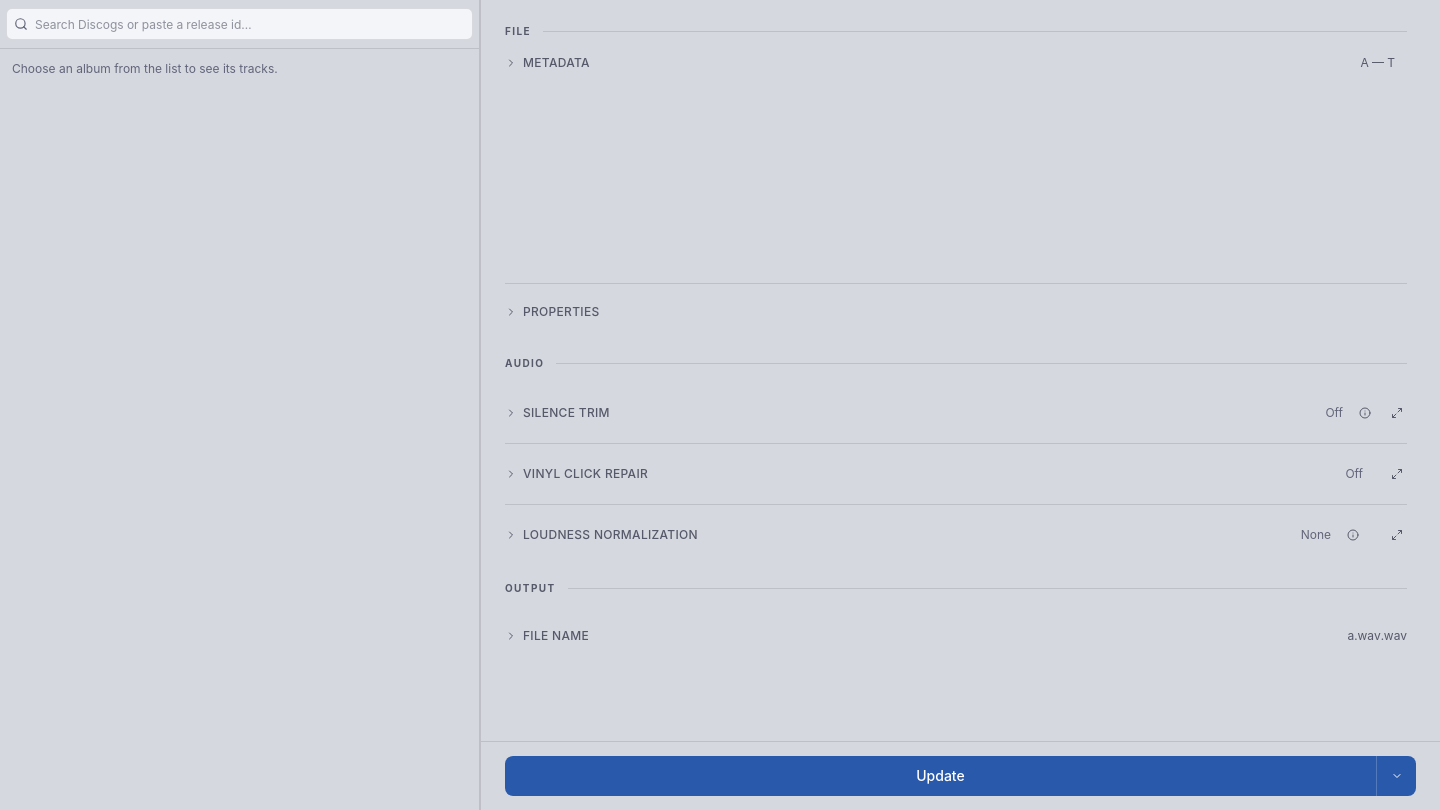
Test: Editor export control › hides the metadata header actions while the form is folded
Click the button "Metadata A — T".
click(556, 62)  # box [505,49,1395,77]
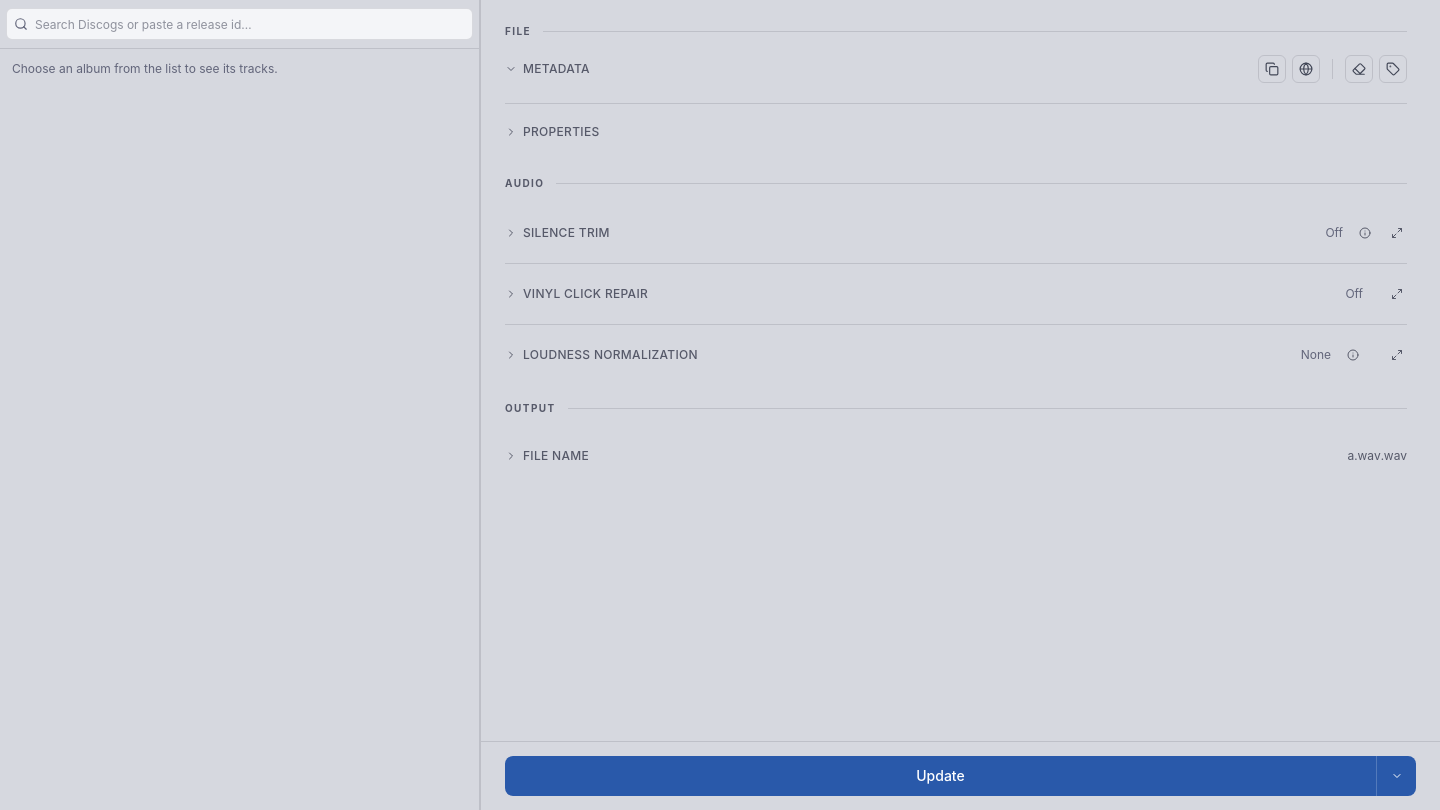
Expected: the button with test id "clear-meta-btn" is shown, [1345,55,1373,83]
Expected: the button with test id "copy-filename-btn" is shown, [1258,55,1286,83]
